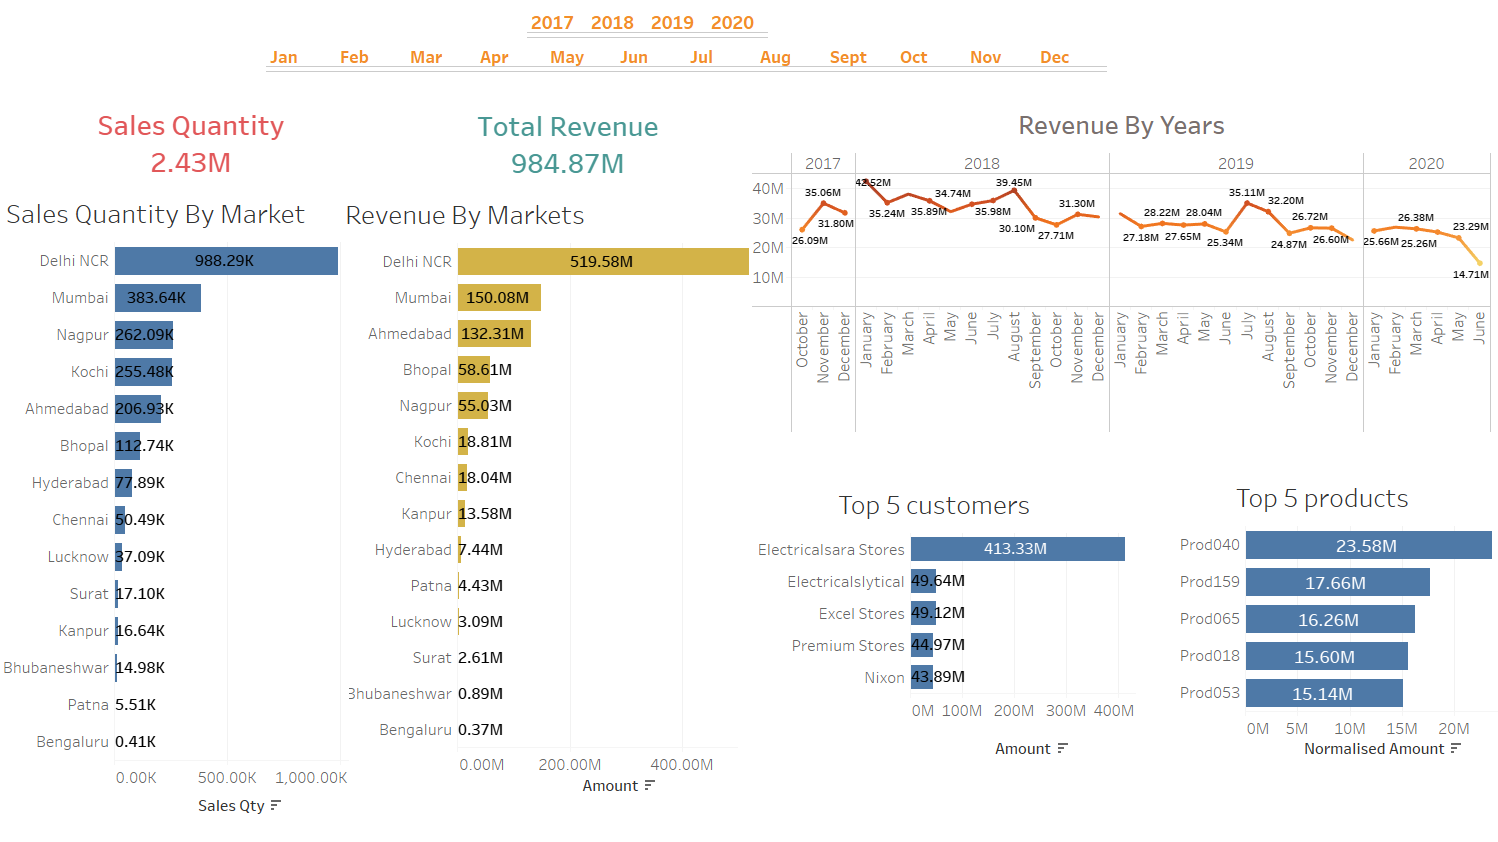

What the dashboard file says about the page in this screenshot:
{"tool":"tableau","page":{"name":"Dashboard 1","canvas":[1500,900],"ordinal":0},"visuals":[{"type":"worksheet","title":"year","mark":"Automatic","cols":["cy_date"],"box":[528,29,298,50]},{"type":"worksheet","title":"month","mark":"Automatic","cols":["cy_date"],"box":[267,63,934,55]},{"type":"worksheet","title":"Revenue By Years","mark":"Automatic","rows":["Calculation_939844989615419392"],"cols":["cy_date","cy_date"],"box":[753,135,739,330]},{"type":"worksheet","title":"Quantity","mark":"Automatic","box":[92,138,216,90]},{"type":"worksheet","title":"Revenue","mark":"Automatic","box":[469,139,226,88]},{"type":"worksheet","title":"Sales Quantity By Market","mark":"Automatic","rows":["markets_name"],"cols":["sales_qty"],"box":[3,224,347,636]},{"type":"worksheet","title":"Revenue By Markets","mark":"Automatic","rows":["markets_name"],"cols":["Calculation_939844989615419392"],"box":[342,225,423,652]},{"type":"worksheet","title":"Top 5 products","mark":"Automatic","rows":["product_code (products)"],"cols":["Calculation_939844989615419392"],"box":[1142,508,363,320]},{"type":"worksheet","title":"Top 5 customers ","mark":"Automatic","rows":["custmer_name"],"cols":["Calculation_939844989615419392"],"box":[739,515,398,324]}]}

Visuals, with their boxes on the page's 1500x900 design canvas (x1, y1, x2, y2). These are canvas units, not pixel positions in the 1498x842 screenshot, which may show the page scaled, cropped or inside an application window:
"year" worksheet: box(528, 29, 826, 79)
"month" worksheet: box(267, 63, 1201, 118)
"Revenue By Years" worksheet: box(753, 135, 1492, 465)
"Quantity" worksheet: box(92, 138, 308, 228)
"Revenue" worksheet: box(469, 139, 695, 227)
"Sales Quantity By Market" worksheet: box(3, 224, 350, 860)
"Revenue By Markets" worksheet: box(342, 225, 765, 877)
"Top 5 products" worksheet: box(1142, 508, 1505, 828)
"Top 5 customers " worksheet: box(739, 515, 1137, 839)
